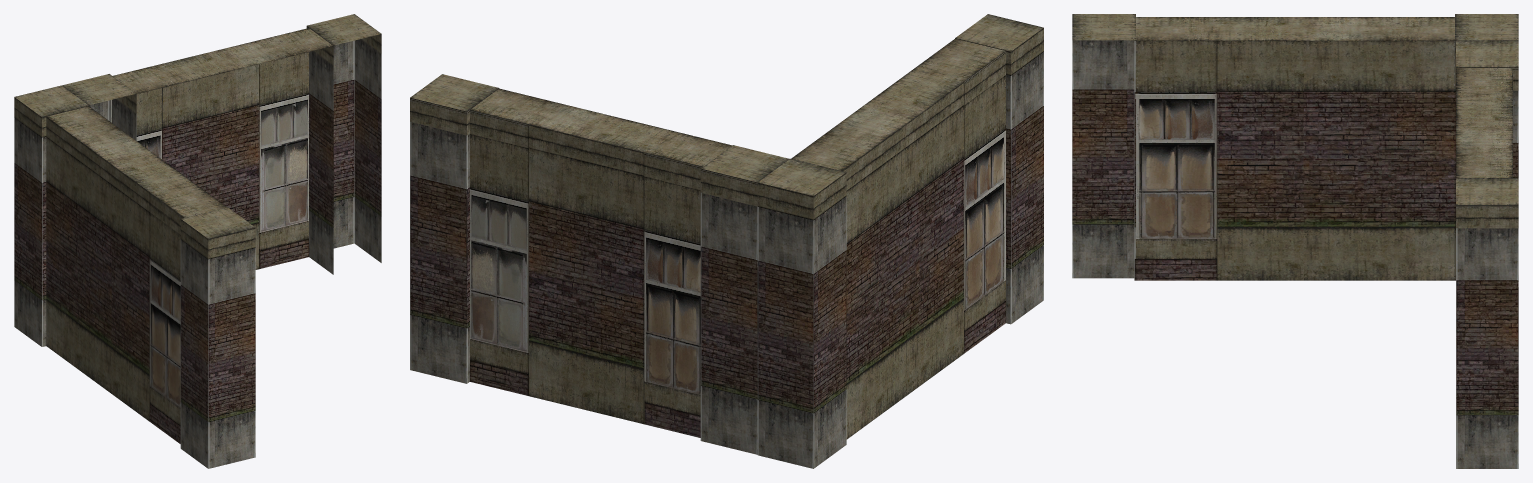
The model's file is Corner_Building_Part_012_Tile.fbx.
3 renders of one model, left to right at view 1: azimuth 30°, elevation 25°; view 2: azimuth 150°, elevation 25°; view 3: azimuth 270°, elevation 25°, orthographic. The views are drawn at different scales.
Visible parts, largest first — view 1: Corner_Building_Part_012_Tile; view 2: Corner_Building_Part_012_Tile; view 3: Corner_Building_Part_012_Tile.
Part boxes in pixels (bbox=[...]): Corner_Building_Part_012_Tile: bbox=[14, 14, 381, 468]; Corner_Building_Part_012_Tile: bbox=[410, 14, 1043, 468]; Corner_Building_Part_012_Tile: bbox=[1072, 14, 1518, 468].
Size of the model in its own units: 708 by 457 by 700.
